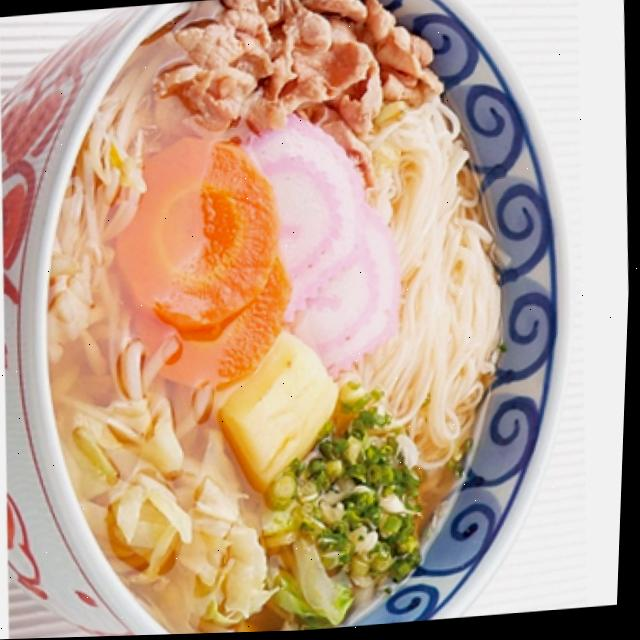面条主食: (0, 0, 583, 640)
